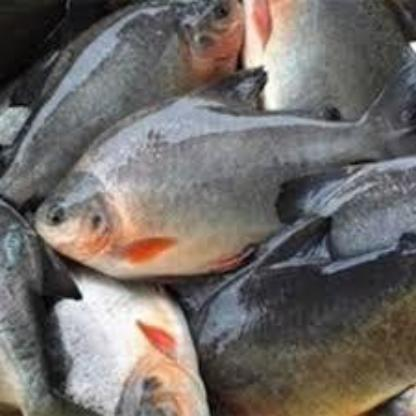ikan-pacu: (33, 85, 373, 273), (0, 0, 248, 106), (42, 269, 204, 415)
